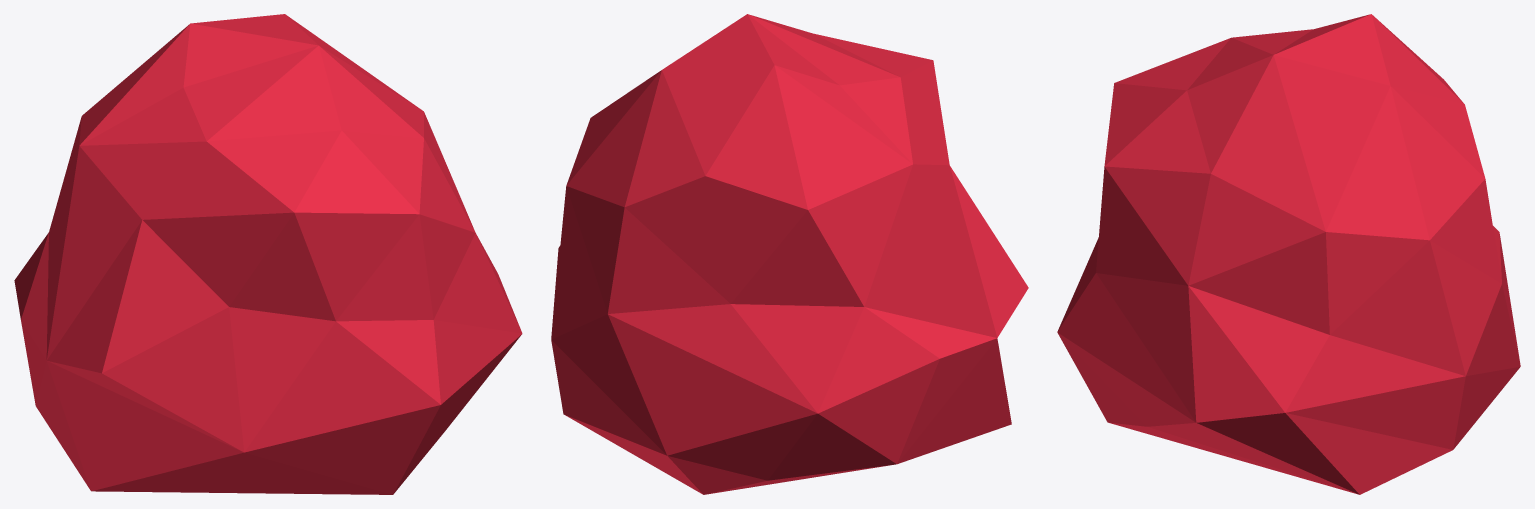
File: FruitBig.fbx
3 views of the same model, side by side, from view 1: azimuth 30°, elevation 25°; view 2: azimuth 150°, elevation 25°; view 3: azimuth 270°, elevation 25° (orthographic). The views are drawn at different scales.
Visible parts, largest first — view 1: FruitBig; view 2: FruitBig; view 3: FruitBig.
Part boxes in pixels (box(x1,y1,x2,y2)): FruitBig: box(14, 14, 522, 494); FruitBig: box(551, 14, 1028, 494); FruitBig: box(1057, 14, 1520, 494).
Size of the model in its own units: 119 by 103 by 110.
